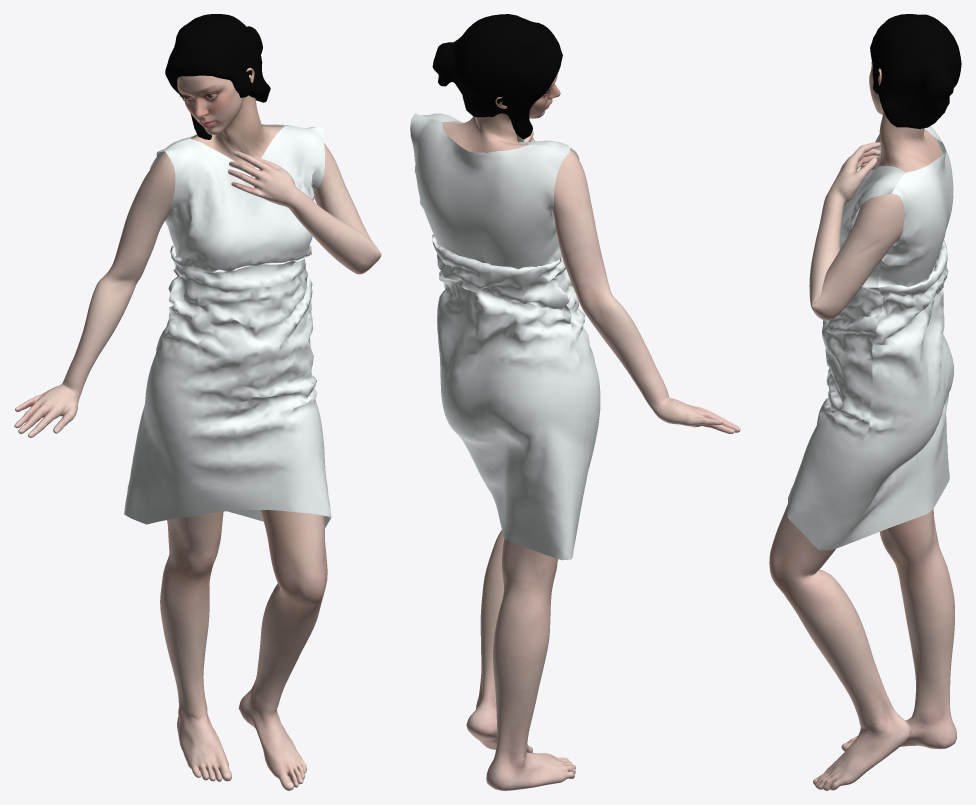
File: Dynamic.obj
3 renders of one model, left to right at view 1: azimuth 30°, elevation 25°; view 2: azimuth 150°, elevation 25°; view 3: azimuth 270°, elevation 25°, orthographic. The views are drawn at different scales.
Bounding box in the file's own units: 813 × 1767 × 408.
